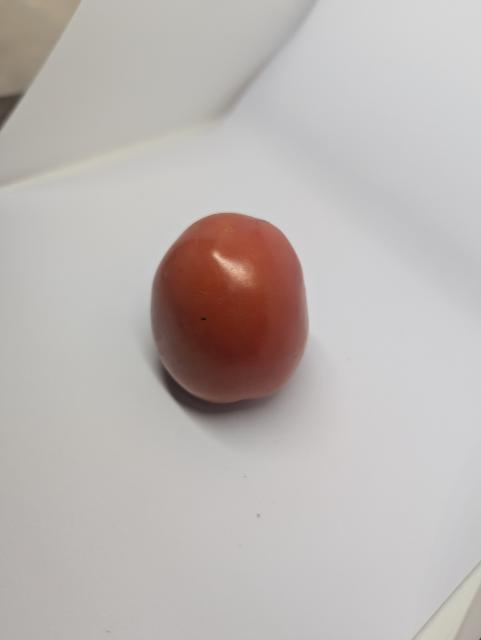red: (123, 196, 349, 431)
